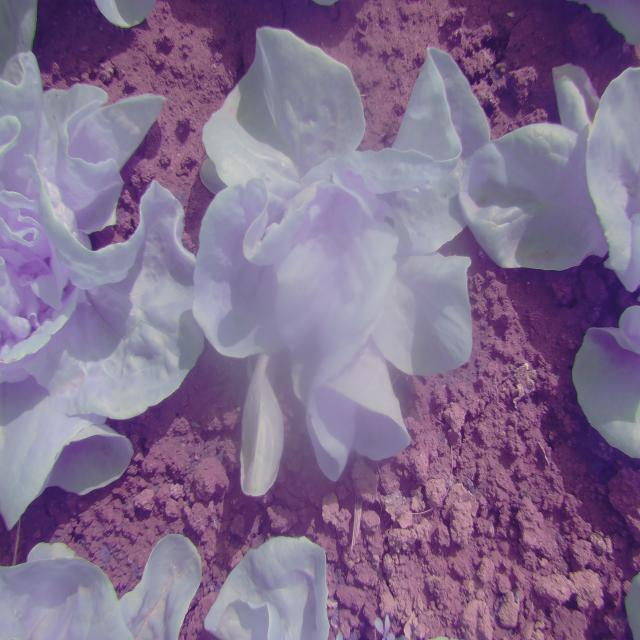vege: (192, 27, 487, 494)
